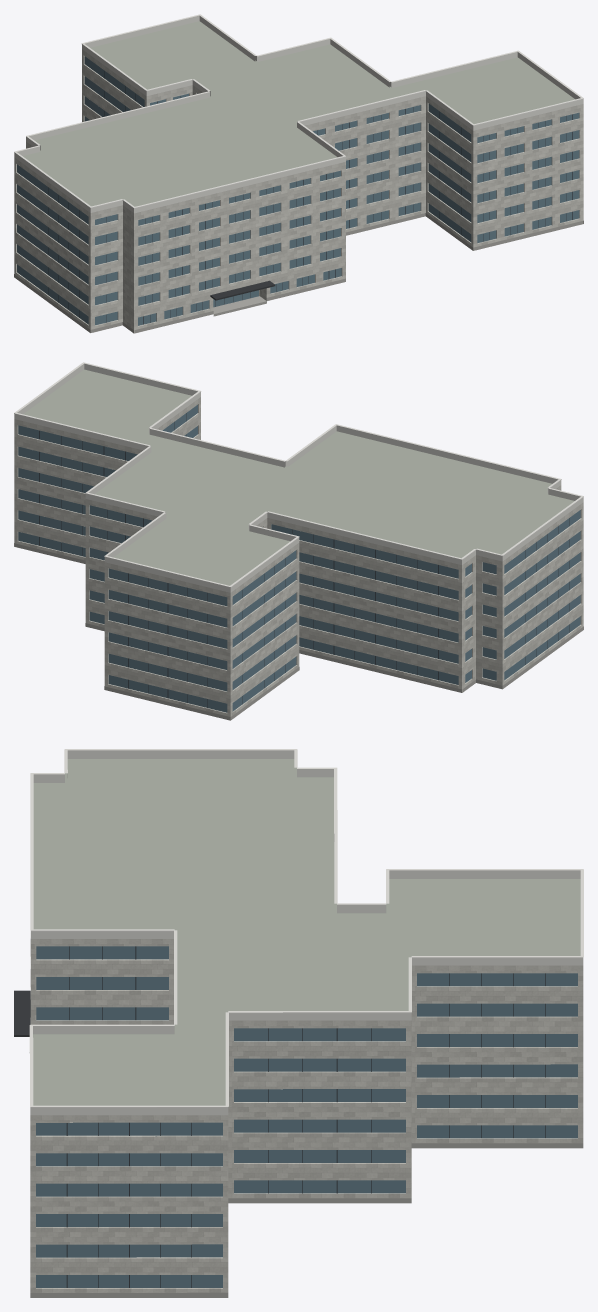
3 renders of one model, top to bottom at view 1: azimuth 30°, elevation 25°; view 2: azimuth 150°, elevation 25°; view 3: azimuth 270°, elevation 25°, orthographic. The views are drawn at different scales.
Visible parts, largest first — view 1: music__wall, music__roof, music__glass, music__parapet, music__trim, music__base, music__frame, music__canopy; view 2: music__wall, music__roof, music__glass, music__parapet, music__trim, music__base, music__frame; view 3: music__roof, music__wall, music__glass, music__parapet, music__trim, music__base, music__frame, music__canopy.
Boxes of the visible parts, left/top/right/bottom form: music__wall: left=14, top=49, right=583, bottom=333; music__roof: left=23, top=21, right=574, bottom=206; music__glass: left=17, top=56, right=579, bottom=325; music__parapet: left=14, top=15, right=583, bottom=213; music__trim: left=14, top=14, right=583, bottom=208; music__base: left=14, top=213, right=583, bottom=333; music__frame: left=48, top=71, right=572, bottom=324; music__canopy: left=210, top=280, right=275, bottom=300; music__wall: left=14, top=397, right=583, bottom=720; music__roof: left=23, top=369, right=574, bottom=585; music__glass: left=18, top=404, right=580, bottom=712; music__parapet: left=14, top=363, right=583, bottom=592; music__trim: left=14, top=362, right=583, bottom=587; music__base: left=14, top=543, right=583, bottom=720; music__frame: left=39, top=413, right=569, bottom=707; music__roof: left=33, top=759, right=580, bottom=1105; music__wall: left=30, top=930, right=583, bottom=1292; music__glass: left=36, top=946, right=577, bottom=1287; music__parapet: left=30, top=750, right=583, bottom=1115; music__trim: left=29, top=749, right=583, bottom=1107; music__base: left=30, top=1143, right=583, bottom=1297; music__frame: left=66, top=946, right=545, bottom=1287; music__canopy: left=14, top=990, right=30, bottom=1036.
Bounding box in the file's own units: 90.84 × 23 × 61.13.
9 materials, 1 textured.
